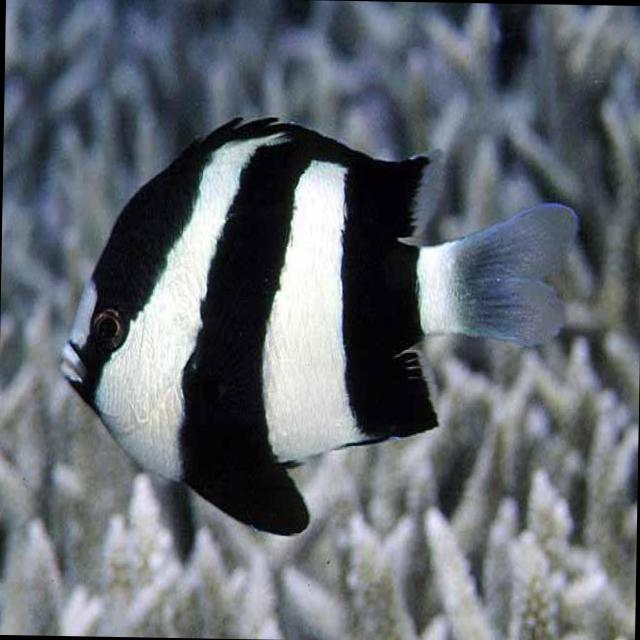Three_striped DasmselFish: (55, 111, 582, 540)
